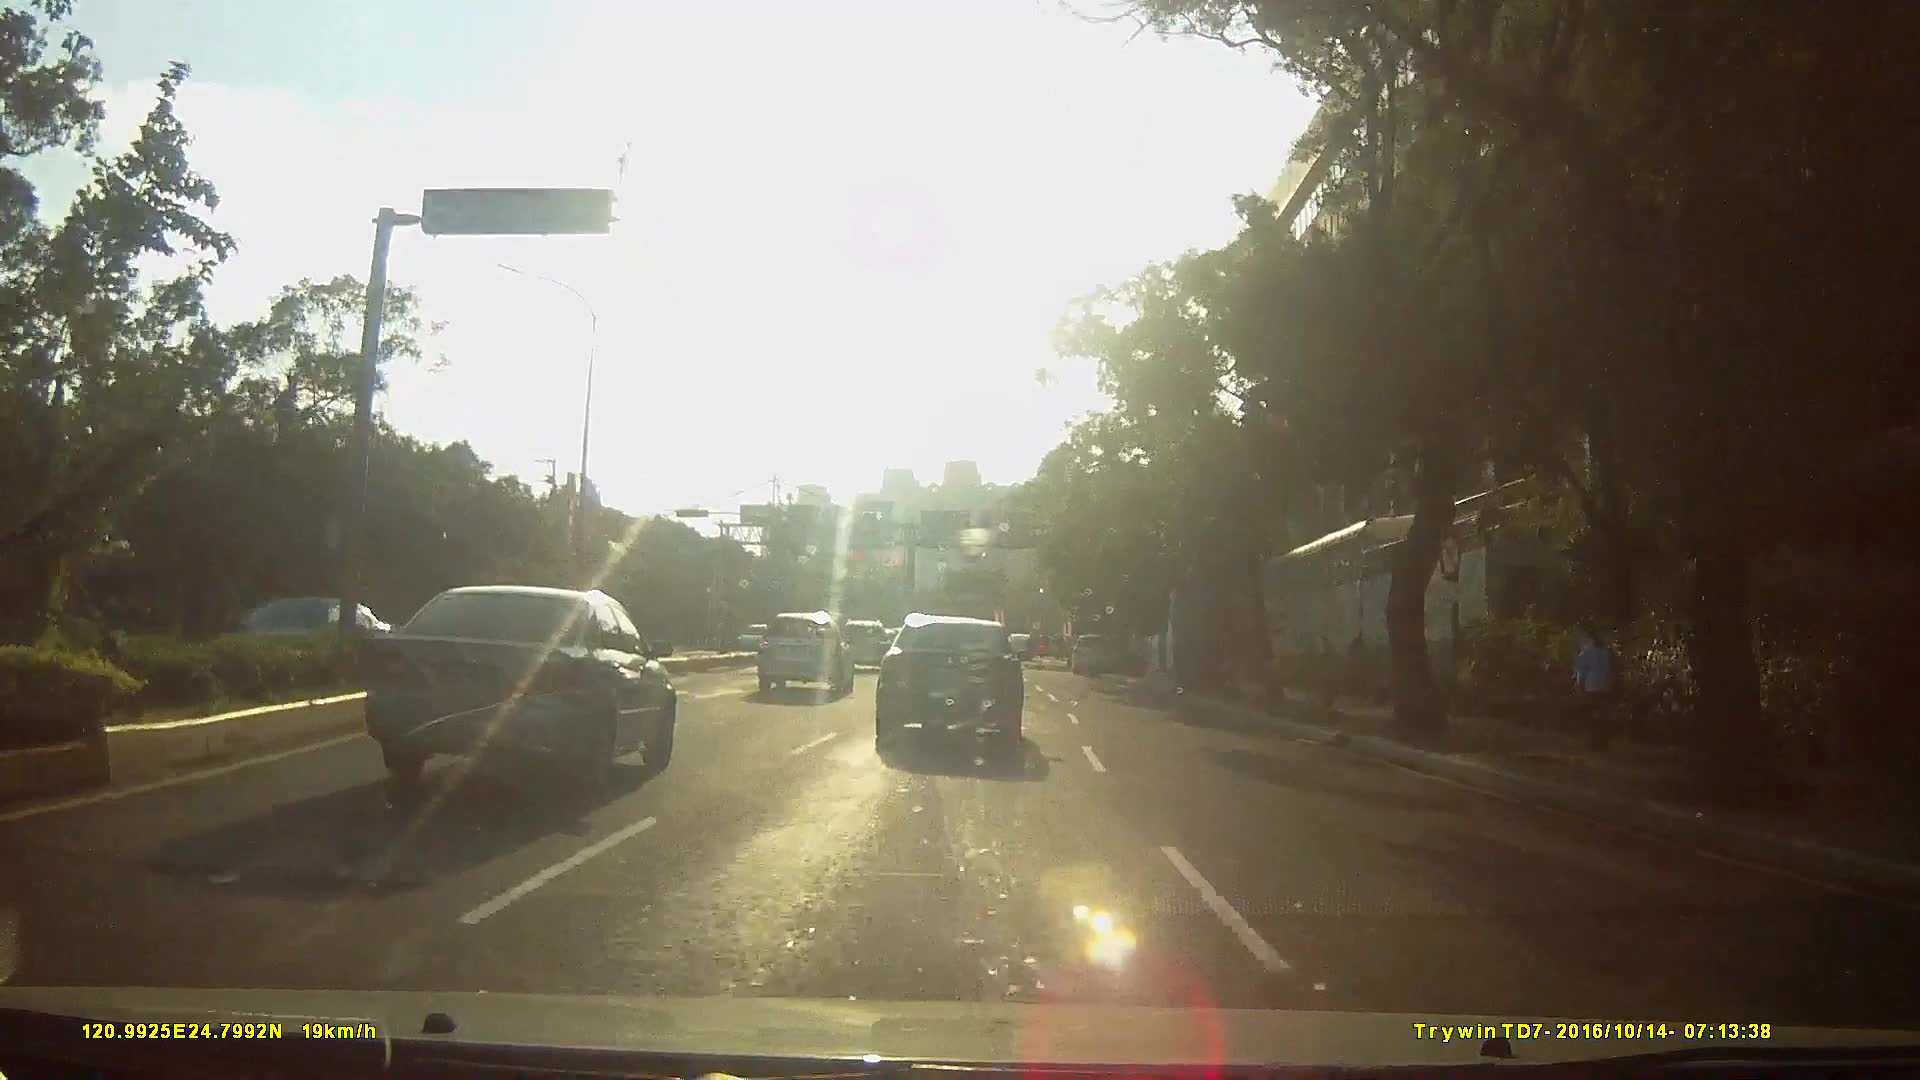pedestrian: (1570, 609, 1624, 748)
vehicle: (350, 581, 670, 795), (869, 614, 1039, 756), (207, 595, 401, 685), (751, 610, 851, 698), (833, 615, 887, 673), (1068, 631, 1118, 677), (730, 621, 780, 657)
